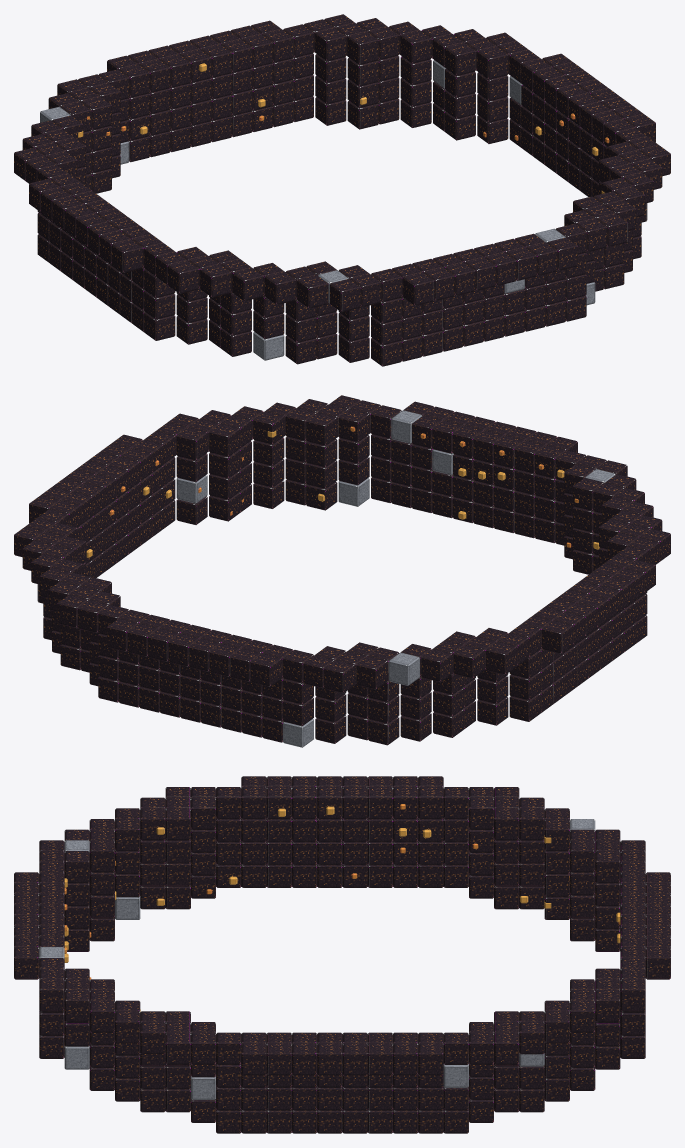
The model's file is env_hole_ore.fbx.
3 views of the same model, one above another, from view 1: azimuth 30°, elevation 25°; view 2: azimuth 150°, elevation 25°; view 3: azimuth 270°, elevation 25° (orthographic). The views are drawn at different scales.
Visible parts, largest first — view 1: env_hole_ore, env_hole_ore_1; view 2: env_hole_ore, env_hole_ore_1; view 3: env_hole_ore, env_hole_ore_1.
Part boxes in pixels (<box>): env_hole_ore: <box>14,14,670,345</box>; env_hole_ore_1: <box>37,75,647,366</box>; env_hole_ore: <box>14,395,670,726</box>; env_hole_ore_1: <box>37,456,647,747</box>; env_hole_ore: <box>14,776,670,1087</box>; env_hole_ore_1: <box>39,864,645,1133</box>.
Size of the model in its own units: 104 by 16 by 104.
Materials: 2 (2 with a texture image).
